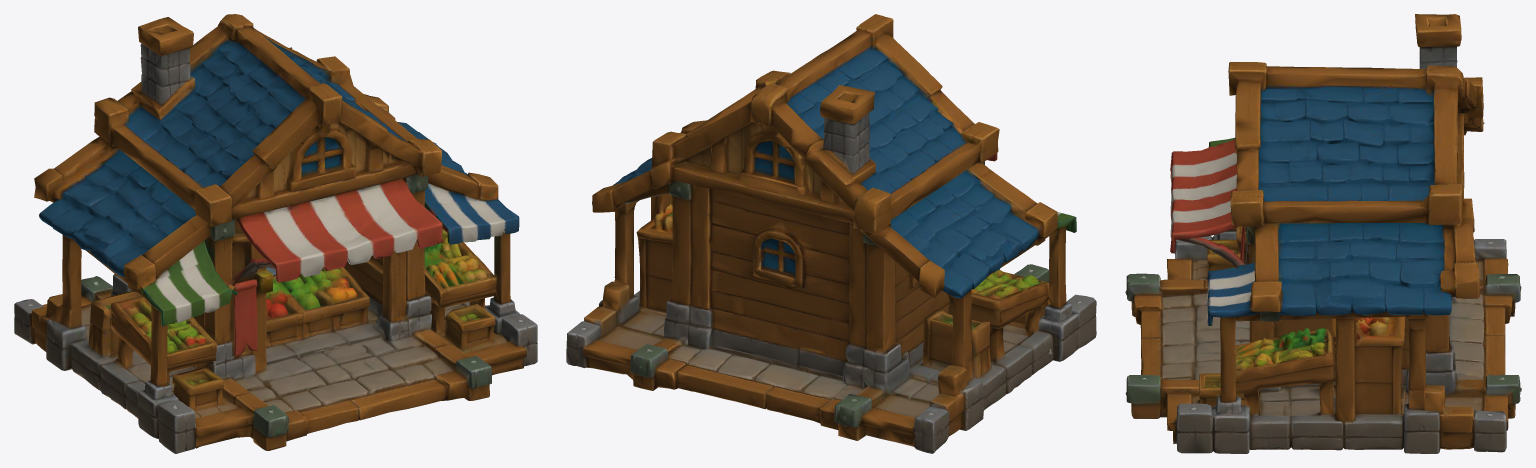
File: market.glb
3 views of the same model, side by side, from view 1: azimuth 30°, elevation 25°; view 2: azimuth 150°, elevation 25°; view 3: azimuth 270°, elevation 25° (orthographic). The views are drawn at different scales.
Parts seen in each view (by area): view 1: tripo_node_6711aed3-f63a-4868-8f56-422dc9eca4ff; view 2: tripo_node_6711aed3-f63a-4868-8f56-422dc9eca4ff; view 3: tripo_node_6711aed3-f63a-4868-8f56-422dc9eca4ff.
Boxes of the visible parts, x1,y1,x2,y2 form: tripo_node_6711aed3-f63a-4868-8f56-422dc9eca4ff: (14,14,537,453); tripo_node_6711aed3-f63a-4868-8f56-422dc9eca4ff: (566,14,1096,453); tripo_node_6711aed3-f63a-4868-8f56-422dc9eca4ff: (1125,14,1521,453).
Size of the model in its own units: 1 by 0.7872 by 0.9101.
Materials: 1 (1 with a texture image).
